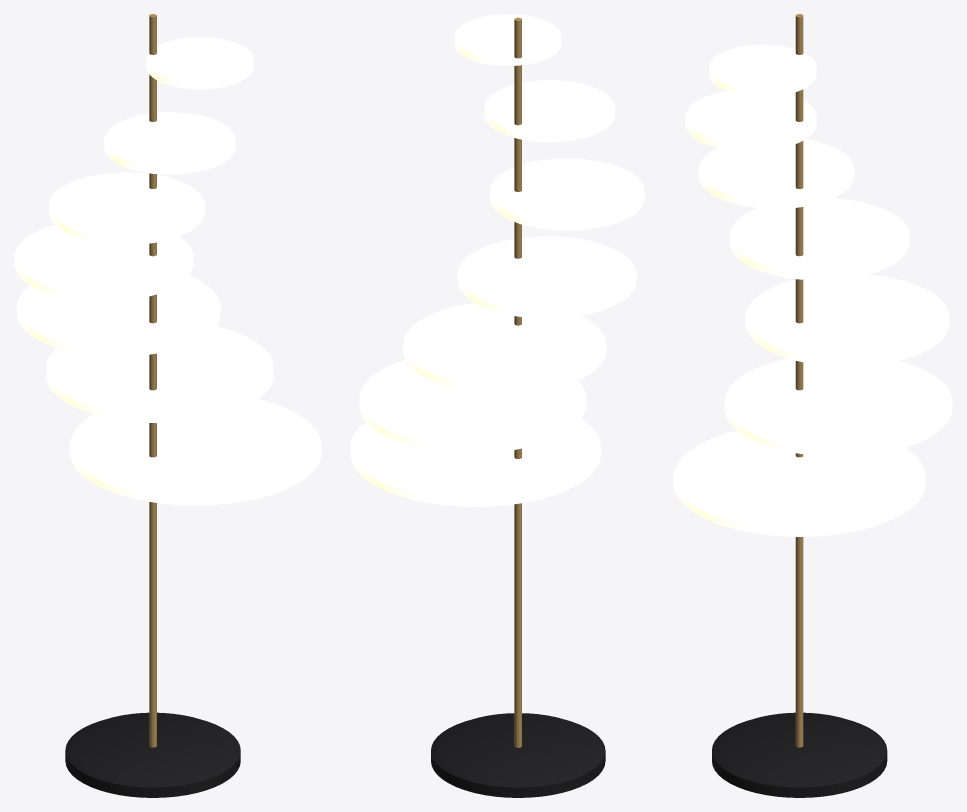
File: lampumeja.glb
3 views of the same model, side by side, from view 1: azimuth 30°, elevation 25°; view 2: azimuth 150°, elevation 25°; view 3: azimuth 270°, elevation 25° (orthographic).
Parts seen in each view (by area): view 1: Stacked offset discs (diffusers) - Diffuser / shade, warm wh, Base and stem - Stands and bases, matt black, Base and stem - Stems and arms, brushed brass; view 2: Stacked offset discs (diffusers) - Diffuser / shade, warm wh, Base and stem - Stands and bases, matt black, Base and stem - Stems and arms, brushed brass; view 3: Stacked offset discs (diffusers) - Diffuser / shade, warm wh, Base and stem - Stands and bases, matt black, Base and stem - Stems and arms, brushed brass.
Part boxes in pixels (x1,y1,x2,y2): Stacked offset discs (diffusers) - Diffuser / shade, warm wh: [14, 37, 321, 505]; Base and stem - Stands and bases, matt black: [65, 712, 240, 797]; Base and stem - Stems and arms, brushed brass: [149, 14, 156, 747]; Stacked offset discs (diffusers) - Diffuser / shade, warm wh: [350, 14, 644, 506]; Base and stem - Stands and bases, matt black: [431, 713, 605, 797]; Base and stem - Stems and arms, brushed brass: [514, 17, 521, 747]; Stacked offset discs (diffusers) - Diffuser / shade, warm wh: [673, 44, 952, 536]; Base and stem - Stands and bases, matt black: [712, 712, 887, 797]; Base and stem - Stems and arms, brushed brass: [795, 14, 803, 747].
Bounding box in the file's own units: 0.5662 × 1.5 × 0.5089.
3 materials, 3 textured.
